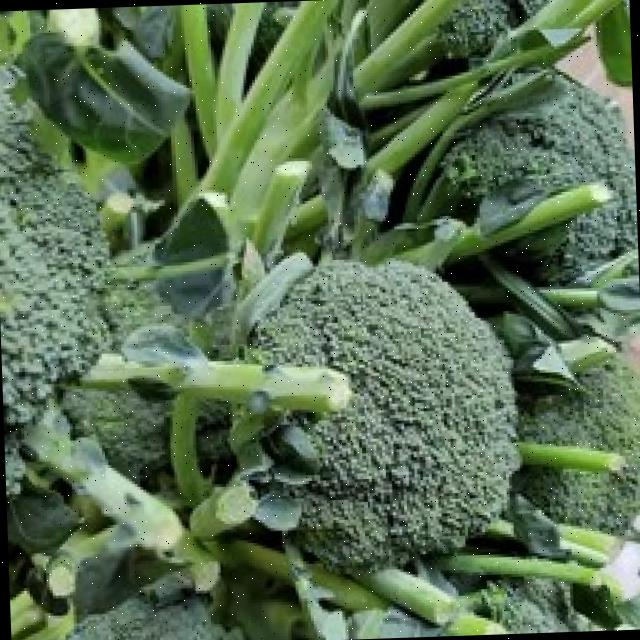Broccoli: (258, 261, 518, 569), (258, 261, 518, 567), (442, 73, 638, 282), (442, 72, 638, 281), (0, 67, 108, 433), (0, 67, 108, 426), (512, 356, 640, 531)
